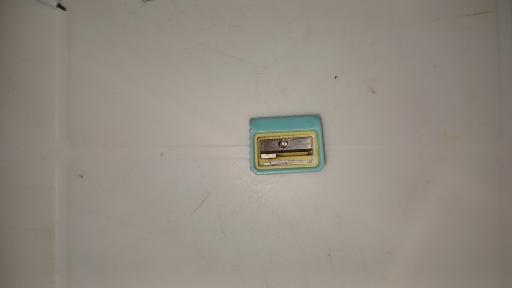Sharpener: (248, 116, 323, 176)
